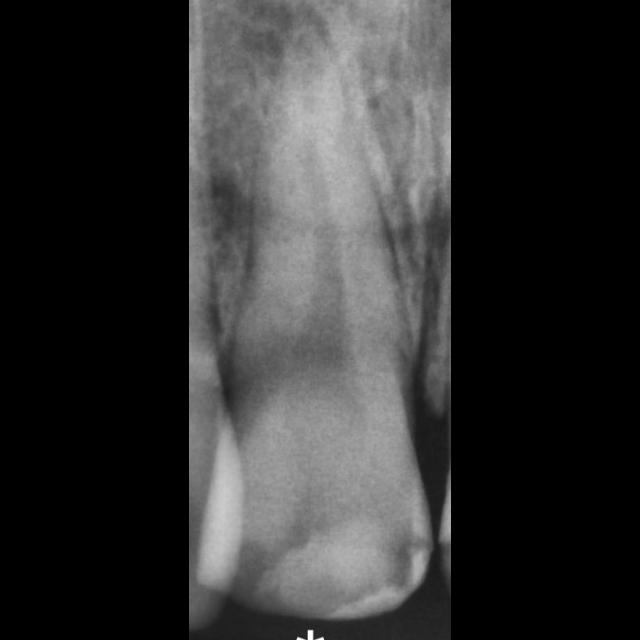tooth: (192, 21, 435, 623)
